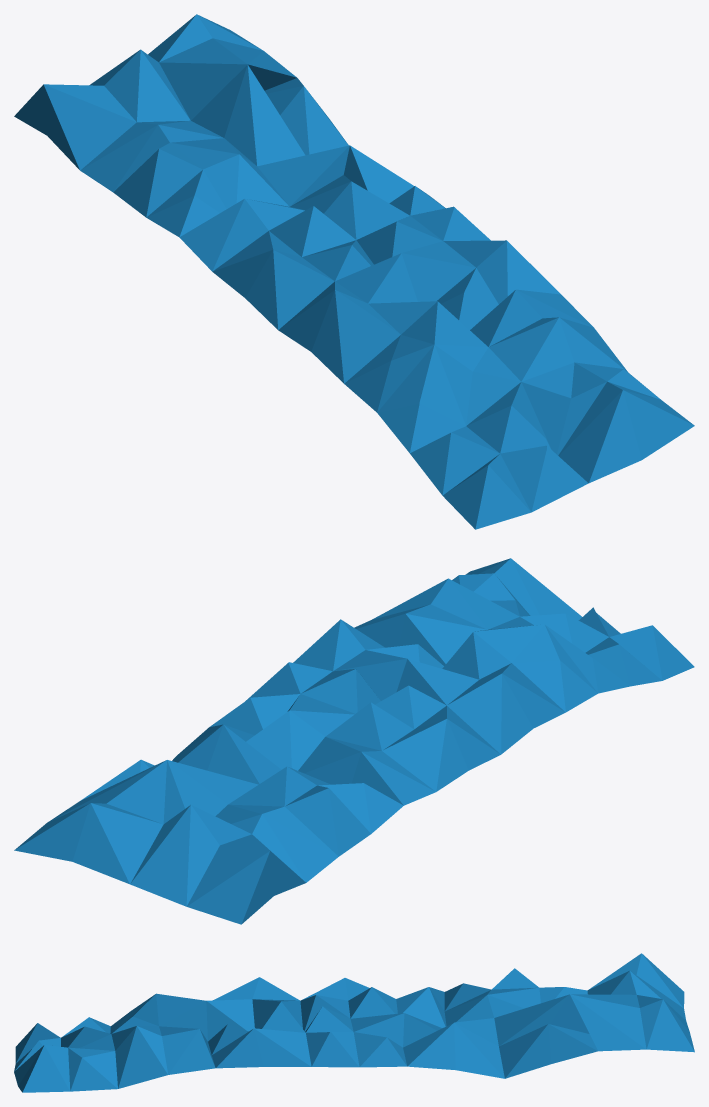
Rendered from lowpolyfluss.FBX.
3 views of the same model, one above another, from view 1: azimuth 30°, elevation 25°; view 2: azimuth 150°, elevation 25°; view 3: azimuth 270°, elevation 25° (orthographic). The views are drawn at different scales.
Parts seen in each view (by area): view 1: Ebene001; view 2: Ebene001; view 3: Ebene001.
Boxes of the visible parts, left/top/right/bottom form: Ebene001: left=14, top=14, right=694, bottom=529; Ebene001: left=14, top=558, right=694, bottom=924; Ebene001: left=14, top=953, right=694, bottom=1092.
Bounding box in the file's own units: 39.11 × 24.74 × 142.
